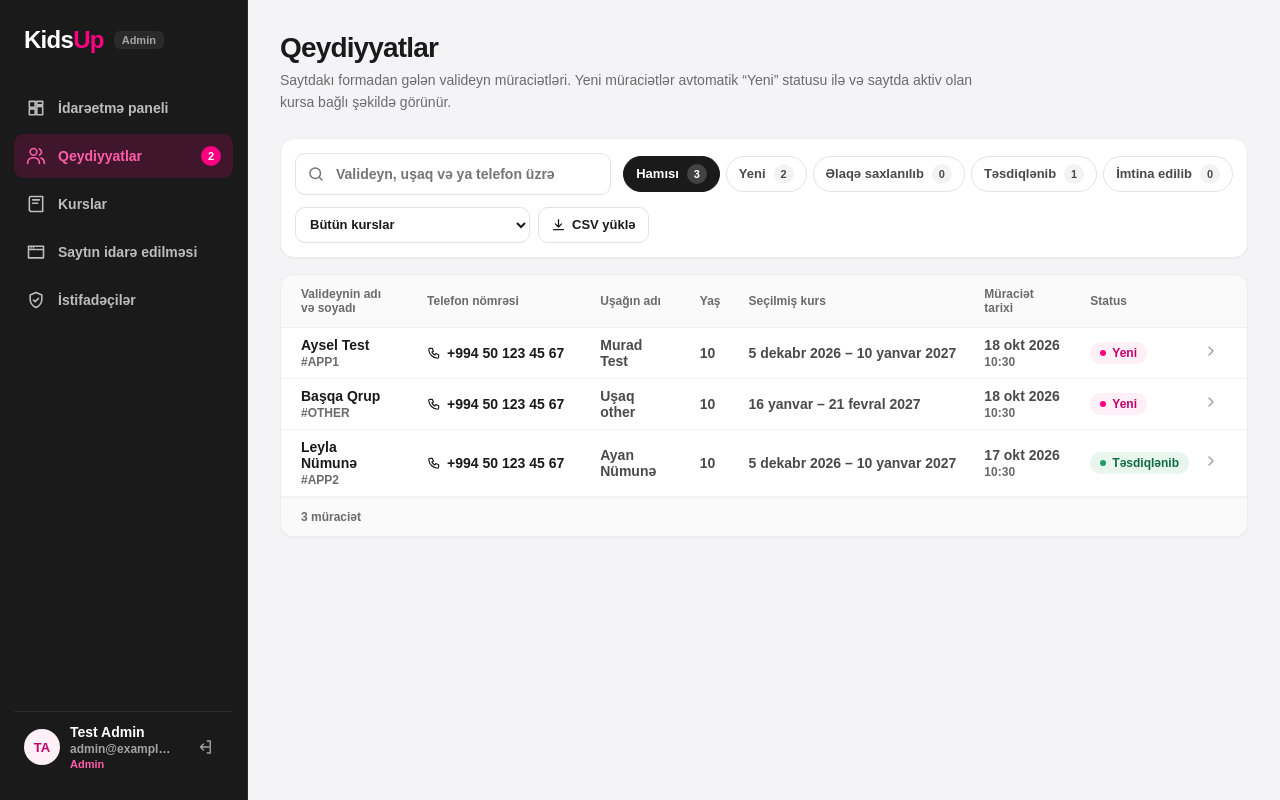
Test: the list › filters by course when there is more than one
Expected: the navigation bar named "Admin menyu" is shown, [14,86,233,322]
Expected: the heading "Qeydiyyatlar" is shown, [280,32,438,63]
Step 1. Select "16 yanvar – 21 fevral 2027" in the dropdown named "Kurs" → (412, 225), box [295,207,530,243]
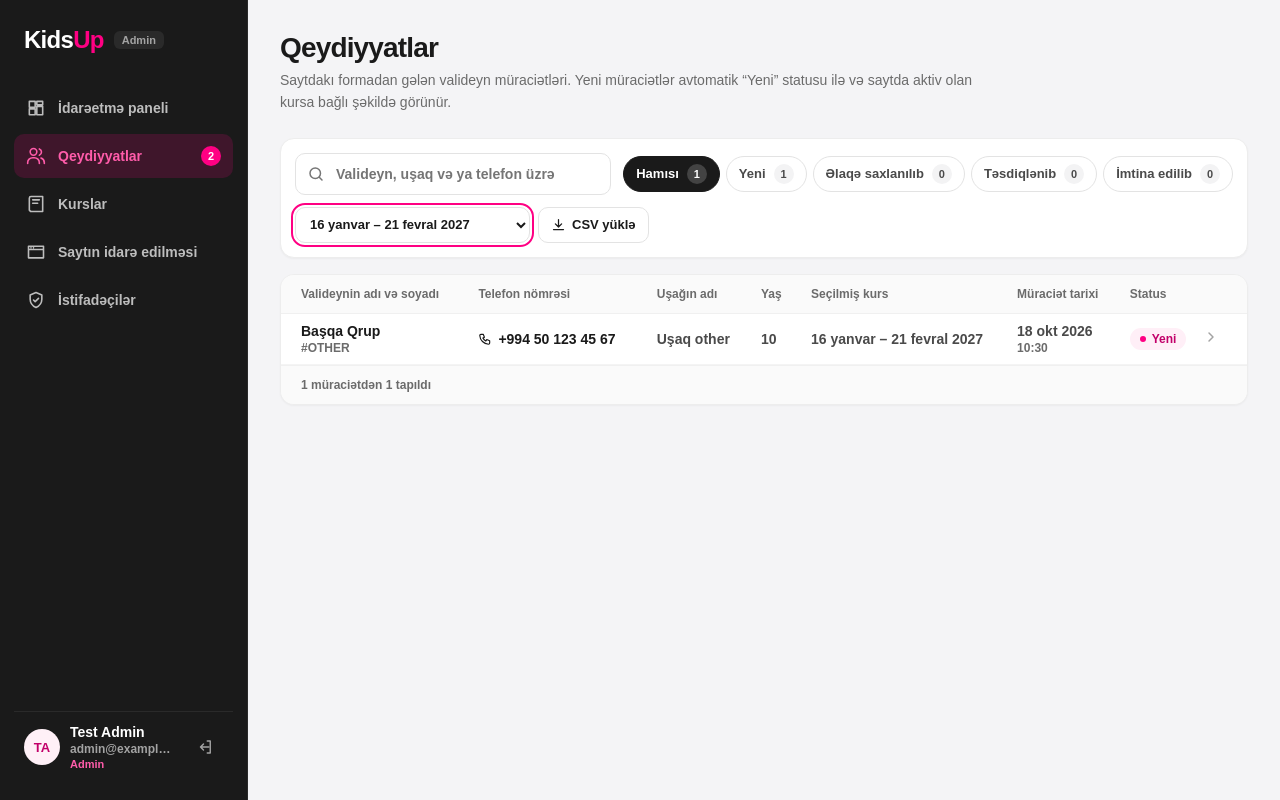
Now the button "Yeni 1" is shown, box [726,156,807,192]
